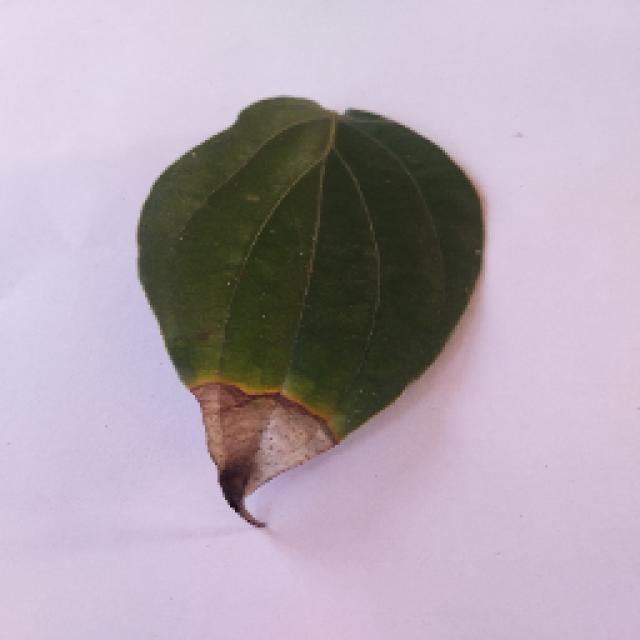footrot: (127, 92, 485, 530)
